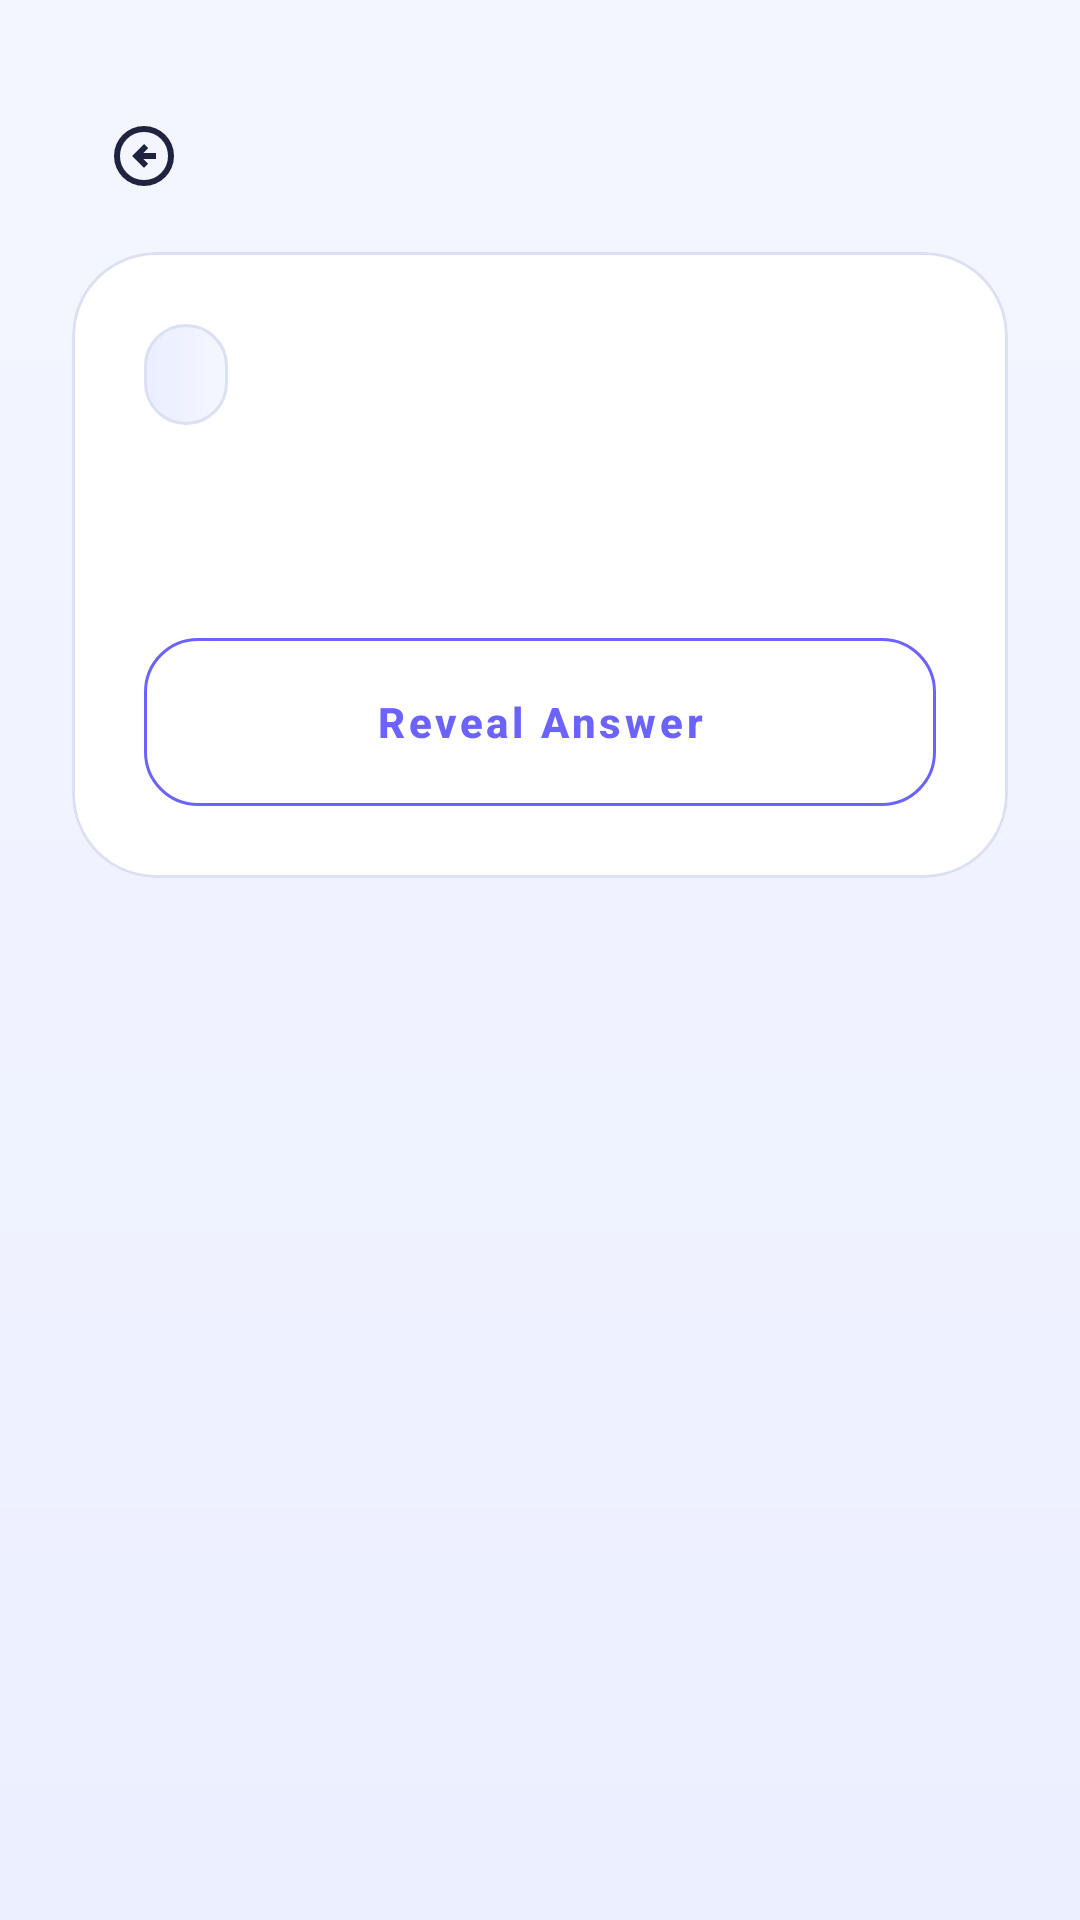

Screen size 1080x1920. Icon name, then its center in pixels as [x,y]:
Back: [144,156]
